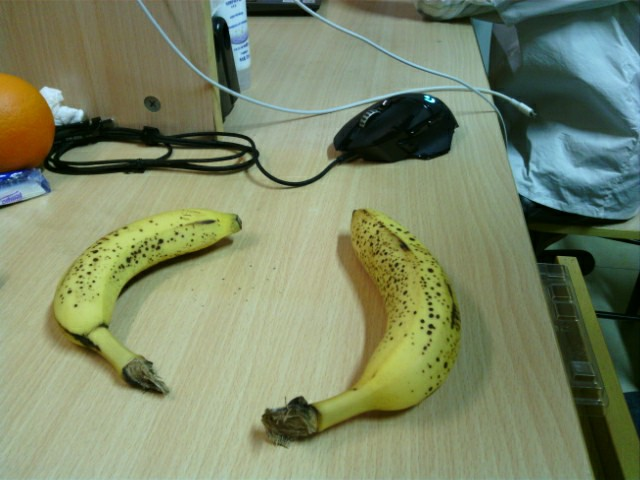normal_banana: (261, 208, 460, 448), (53, 208, 242, 398)
